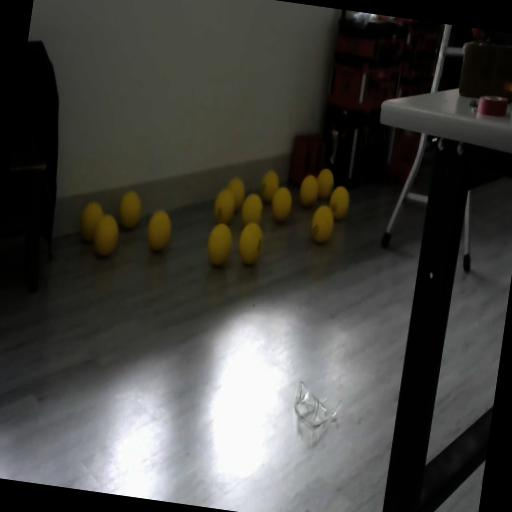FUEL: (203, 220, 236, 270), (90, 211, 122, 260), (236, 218, 266, 266), (144, 210, 174, 254), (308, 202, 337, 246), (116, 190, 144, 231), (326, 184, 352, 222), (239, 191, 265, 228), (224, 174, 248, 214), (269, 185, 294, 223), (297, 173, 320, 209), (259, 168, 281, 204), (314, 166, 337, 200), (212, 188, 228, 222)
